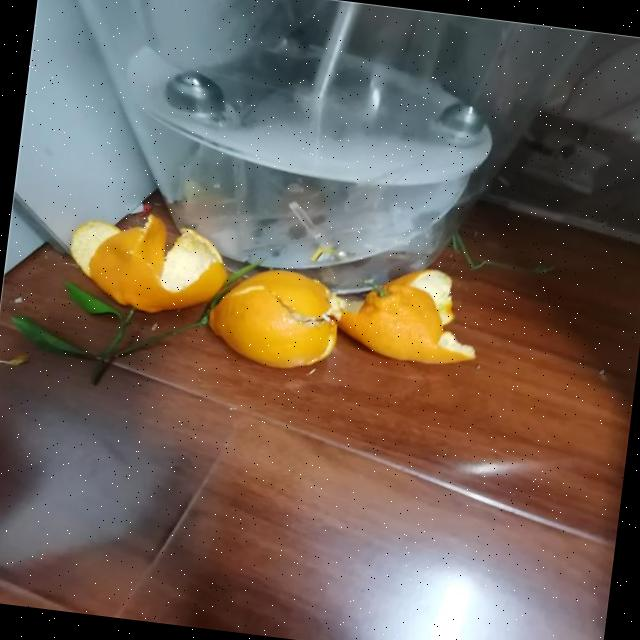orange-peel: (202, 259, 346, 375)
